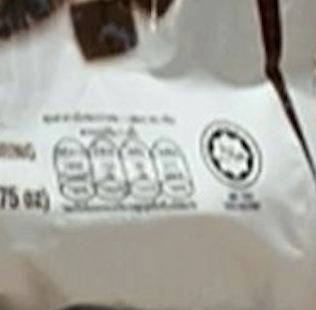halal: (215, 140, 250, 169)
